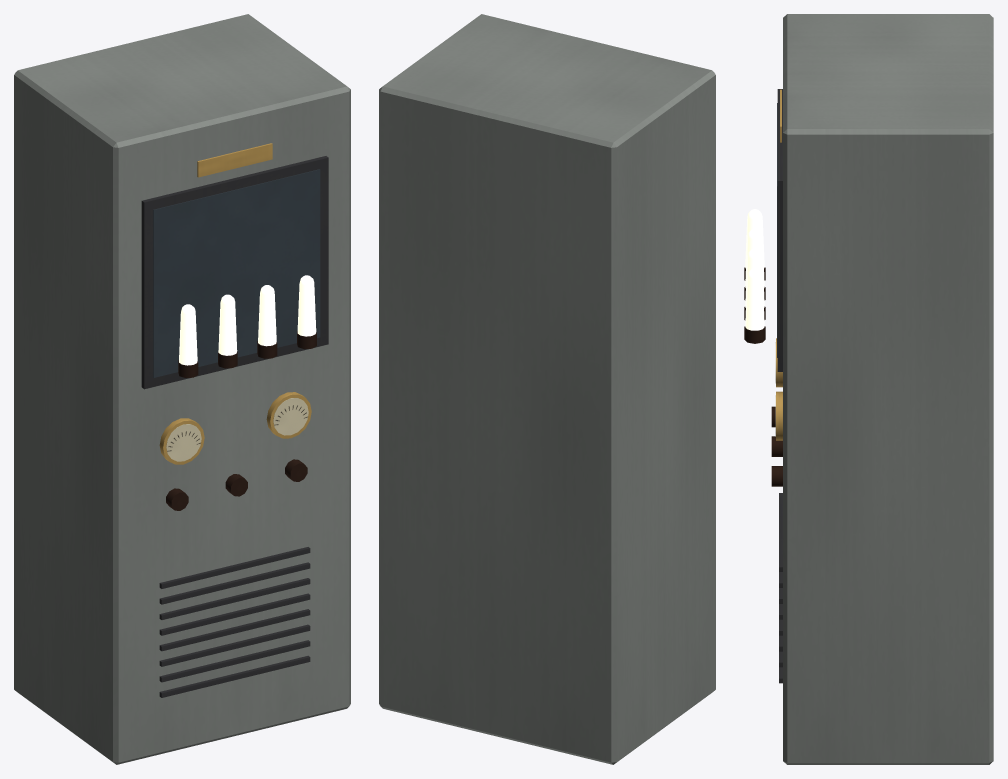
File: OB_Szafa_Aparatura.fbx
The picture shows the model from 3 angles, left to right: view 1: azimuth 30°, elevation 25°; view 2: azimuth 150°, elevation 25°; view 3: azimuth 270°, elevation 25°; orthographic projection. The views are drawn at different scales.
Visible parts, largest first — view 1: Szafa, Lampy; view 2: Szafa; view 3: Szafa, Lampy.
Boxes of the visible parts, left/top/right/bottom form: Szafa: left=14, top=14, right=350, bottom=764; Lampy: left=179, top=275, right=316, bottom=365; Szafa: left=379, top=14, right=715, bottom=764; Szafa: left=744, top=14, right=993, bottom=764; Lampy: left=745, top=209, right=764, bottom=330.
Bounding box in the file's own units: 0.8 × 2 × 0.71.
